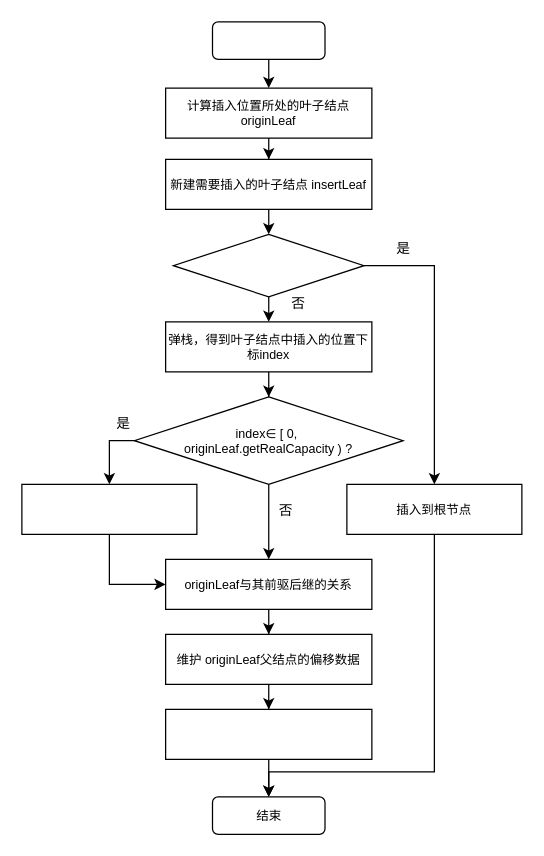
The diagram is 544 pixels wide and 856 high, and some of its shapes have lost their labels. Each missing label, with the centre of its shape:
"originLeaf == null ?" goes at point (268, 265).
"将originLeaf分裂为两个结点" goes at point (109, 508).
"开始" goes at point (268, 40).
"维护搜索路径上所有内部结点" goes at point (268, 733).
